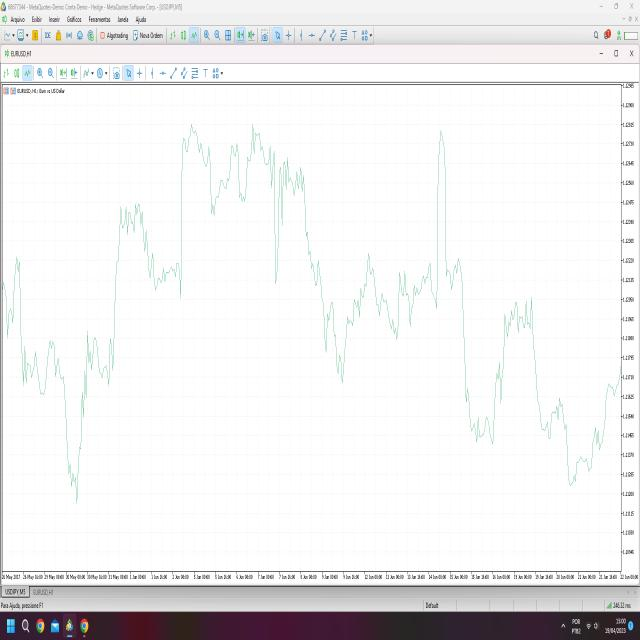bandeira_alta: (72, 316, 117, 507)
bandeira_baixa: (18, 247, 63, 401), (132, 189, 178, 296)
fundo_duplo: (548, 388, 612, 498)
oco_inv: (23, 298, 122, 521)
